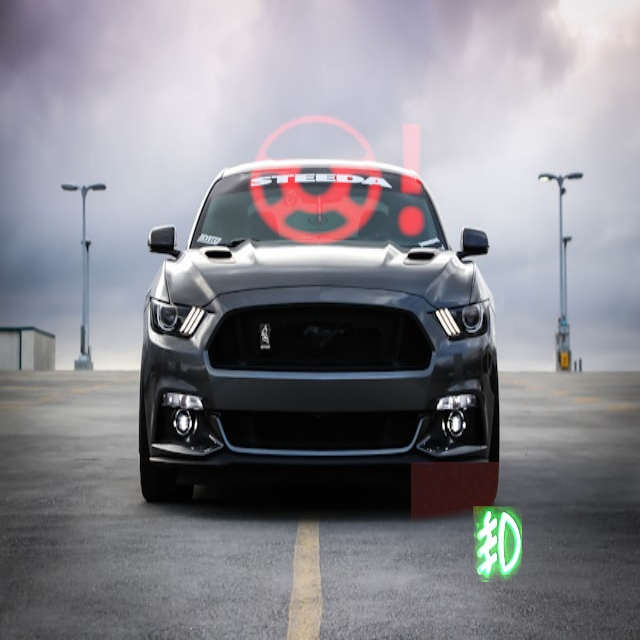symbol: (232, 75, 443, 286), (411, 462, 584, 635)
